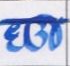i_matra: (43, 13, 60, 49)
